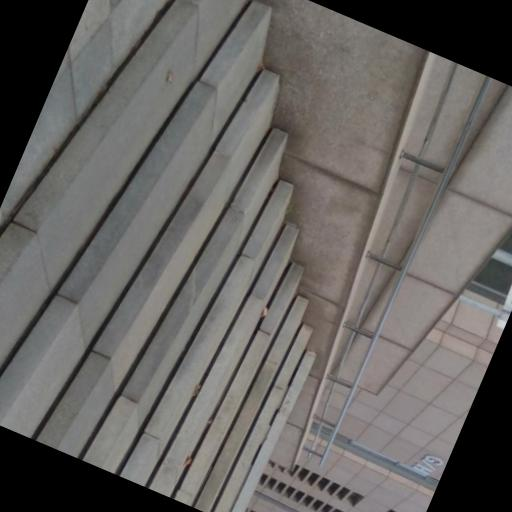stairs: (0, 0, 312, 511)
